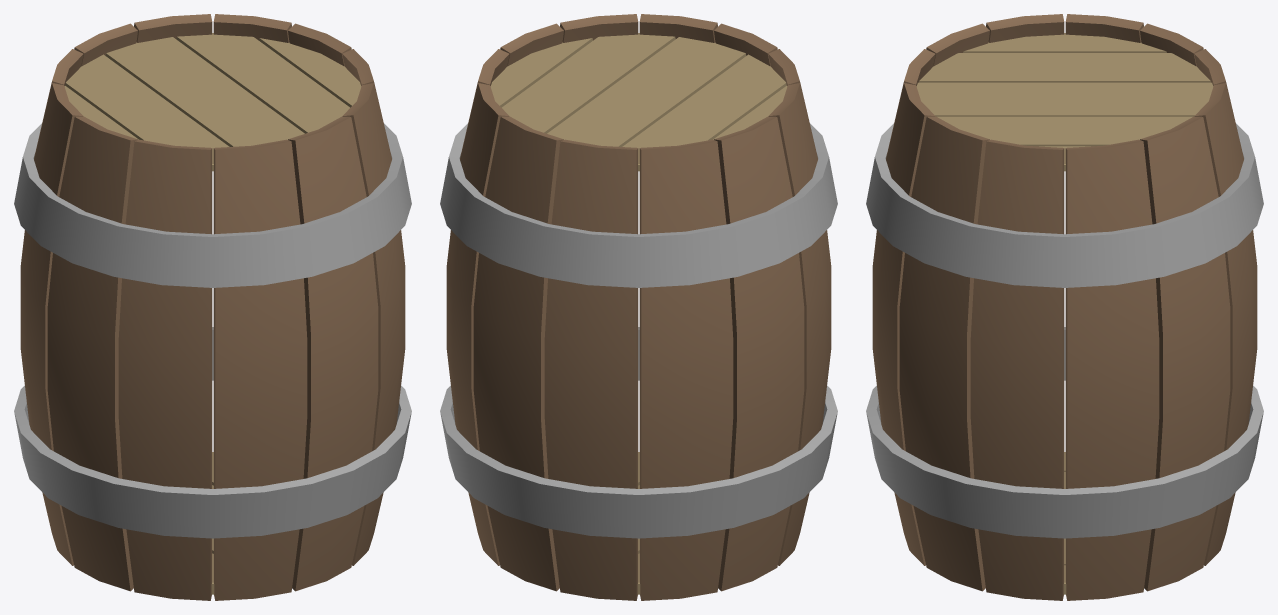
Rendered from Barrel.fbx.
The picture shows the model from 3 angles, left to right: view 1: azimuth 30°, elevation 25°; view 2: azimuth 150°, elevation 25°; view 3: azimuth 270°, elevation 25°; orthographic projection.
Parts seen in each view (by area): view 1: Circle.004; view 2: Circle.004; view 3: Circle.004.
Boxes of the visible parts, bbox=[...] form: Circle.004: bbox=[14, 14, 411, 600]; Circle.004: bbox=[440, 14, 837, 600]; Circle.004: bbox=[866, 14, 1263, 600].
Size of the model in its own units: 267 by 334 by 267.
